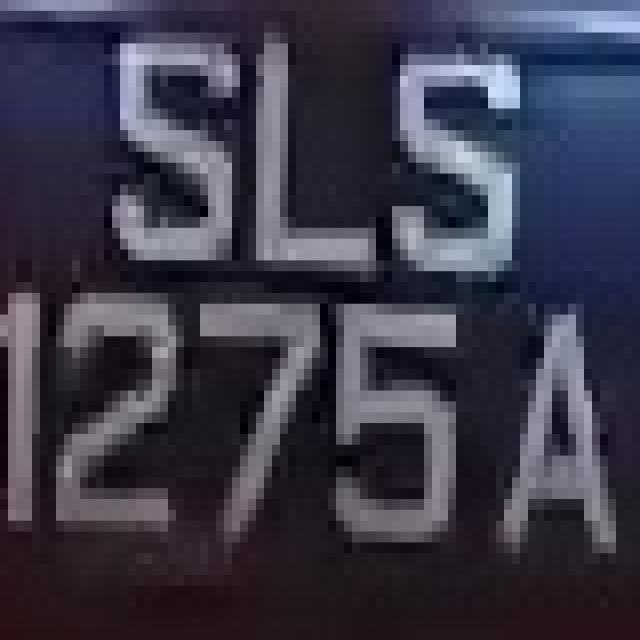1: (0, 249, 56, 586)
2: (56, 261, 192, 554)
5: (328, 282, 464, 553)
7: (184, 239, 336, 564)
A: (472, 260, 624, 564)
L: (232, 0, 392, 282)
S: (368, 0, 552, 304), (96, 32, 232, 293)
